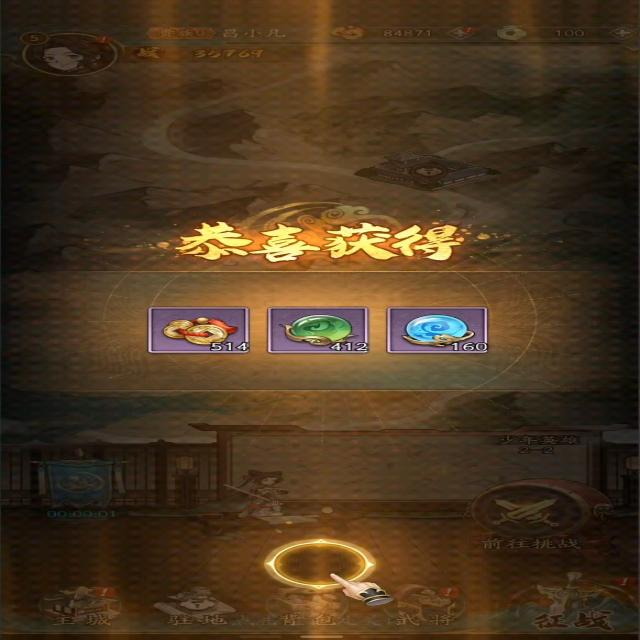hint-guide: (252, 536, 414, 608)
